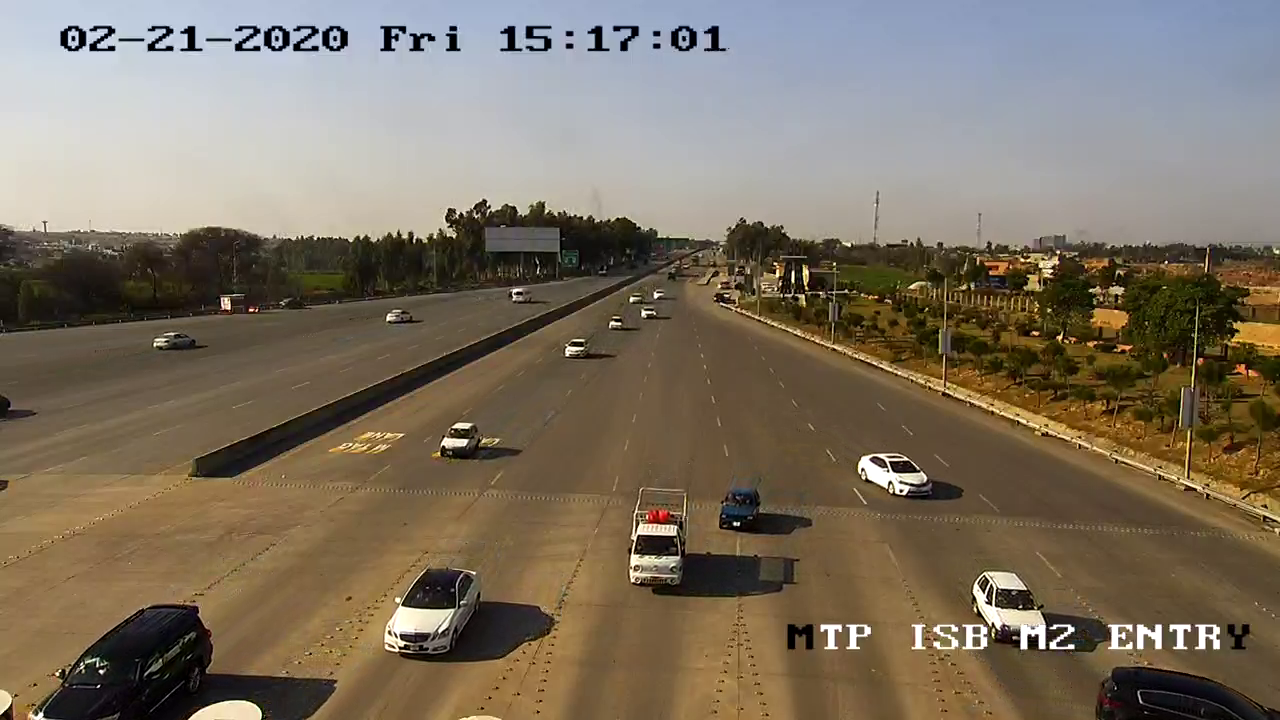f1: (373, 561, 493, 665), (854, 442, 937, 506), (714, 479, 765, 538)
f2: (621, 476, 697, 595)
